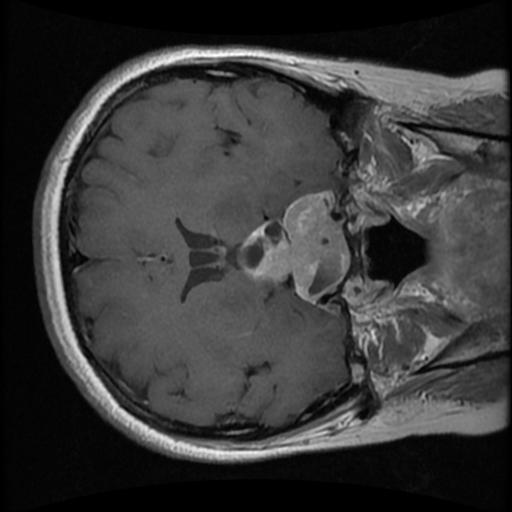pituitary tumour: (237, 191, 349, 306)
